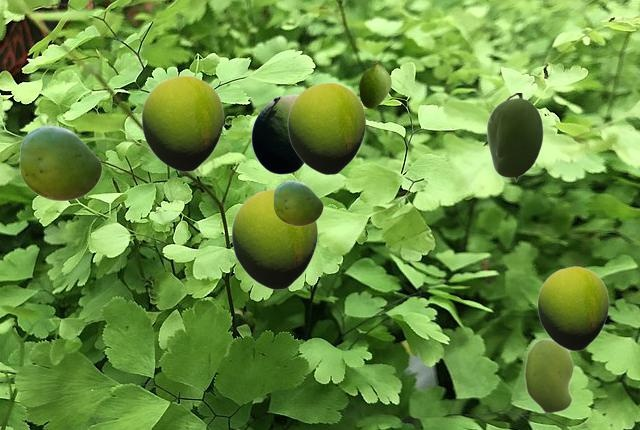green_mango: (231, 188, 317, 289), (141, 75, 223, 171), (287, 82, 365, 174), (19, 125, 101, 200), (537, 266, 608, 350), (486, 93, 542, 181), (251, 94, 304, 173), (524, 338, 573, 413), (273, 180, 322, 225), (359, 62, 390, 107)
